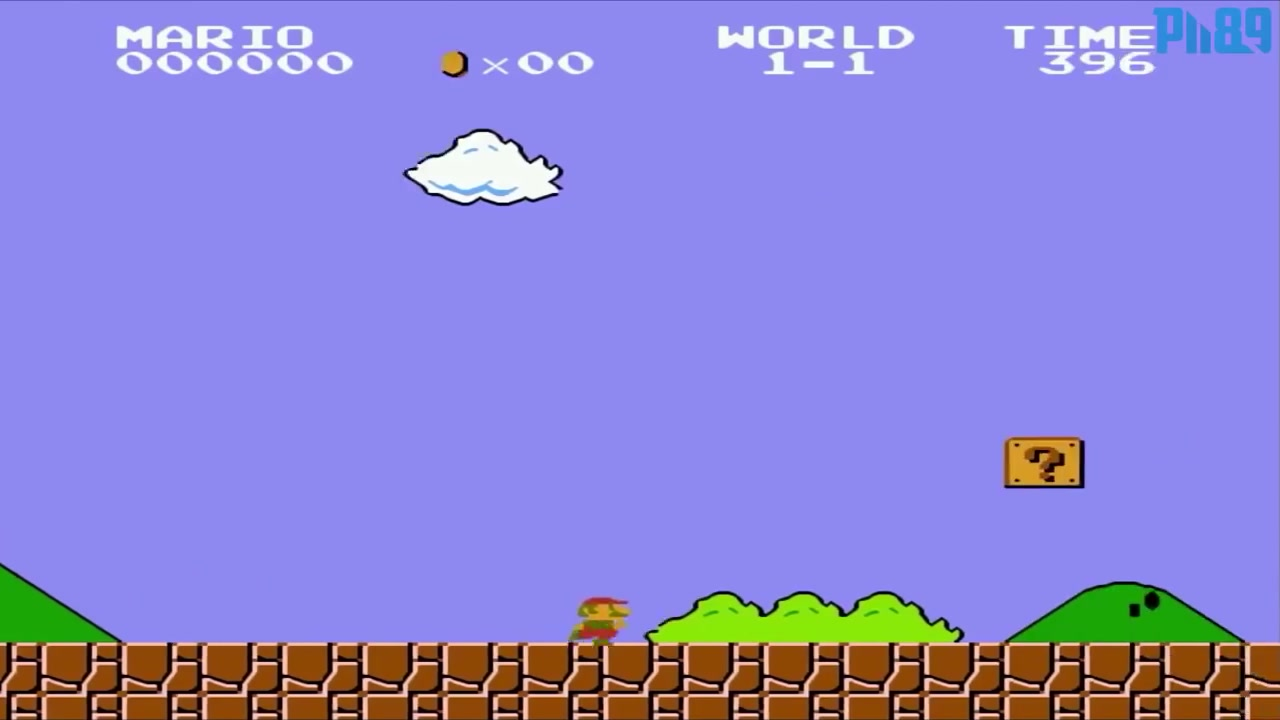mario: (564, 587, 633, 650)
